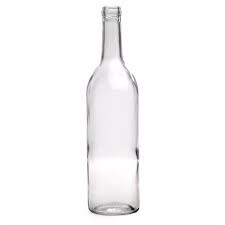bottle: (83, 3, 144, 218)
